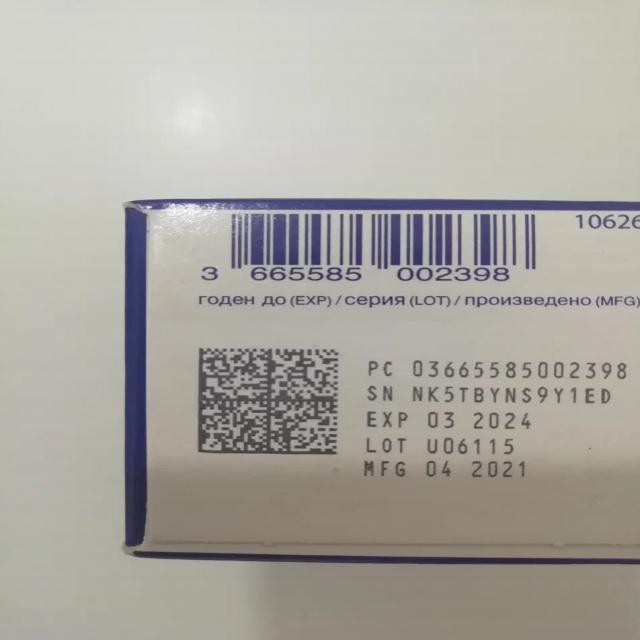datamatrix: (197, 346, 344, 457)
